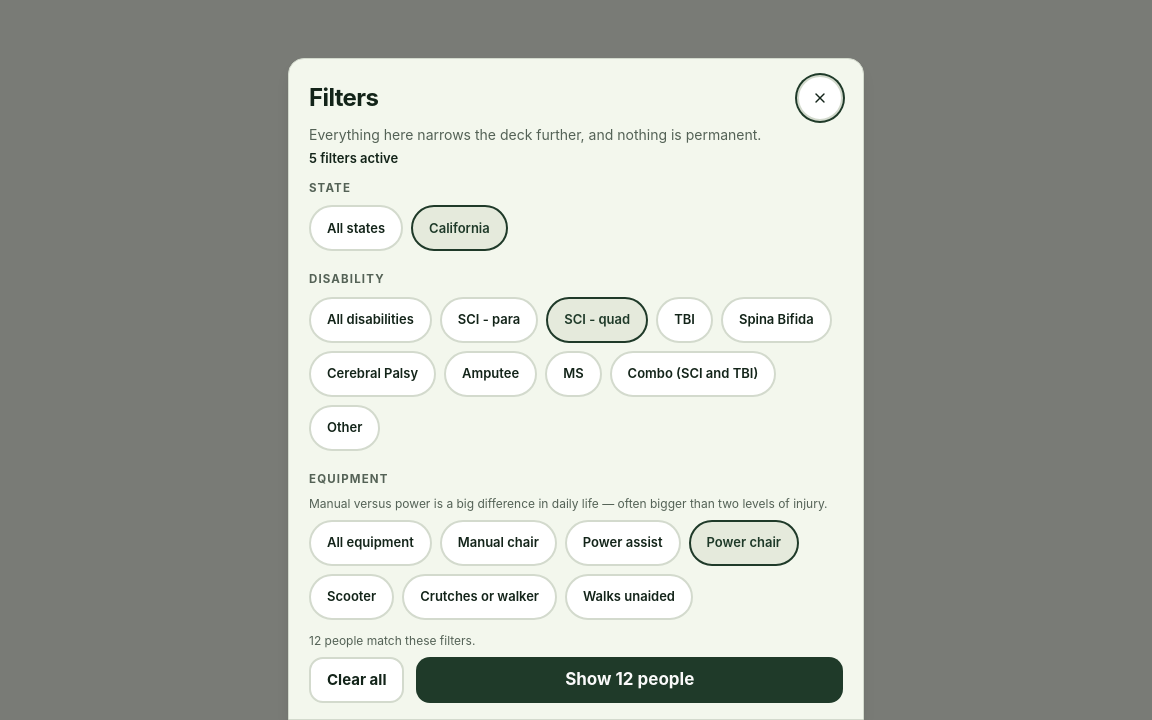
DiscoverFilterSheet › resets every filter with Clear all
The width and height of the screenshot is (1152, 720).
Expected: the text "5 filters active" is shown, [309,150,398,166]
Click the button "Clear all" at {"x": 357, "y": 680}, box [309,657,404,703]
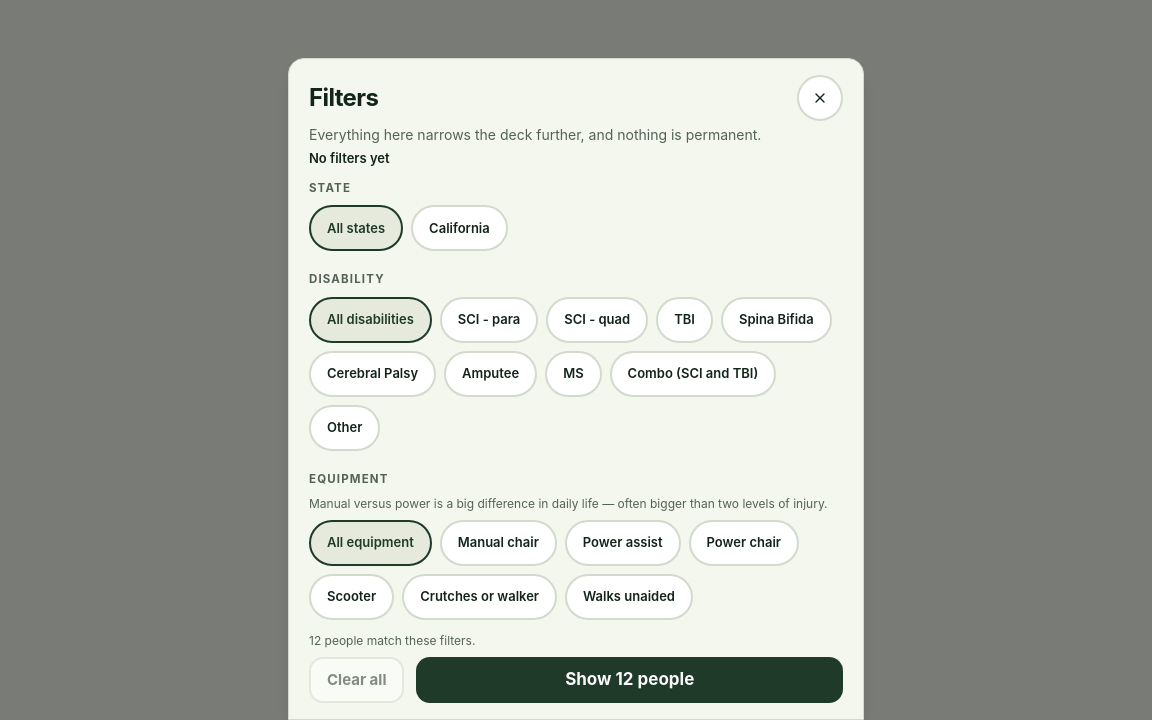
Expected: the text "No filters yet" is shown, [309,150,390,166]
